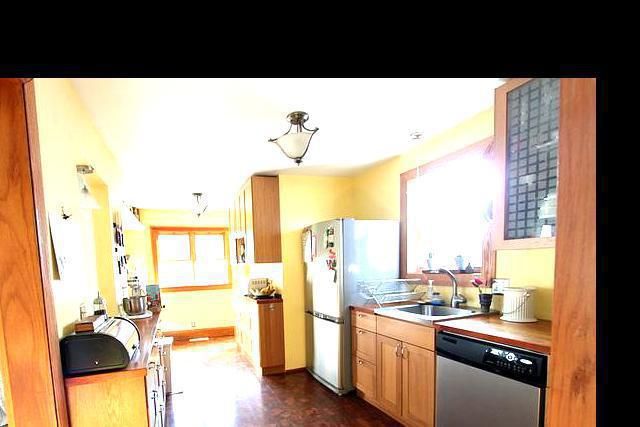Lavaplatos: (379, 265, 478, 323)
